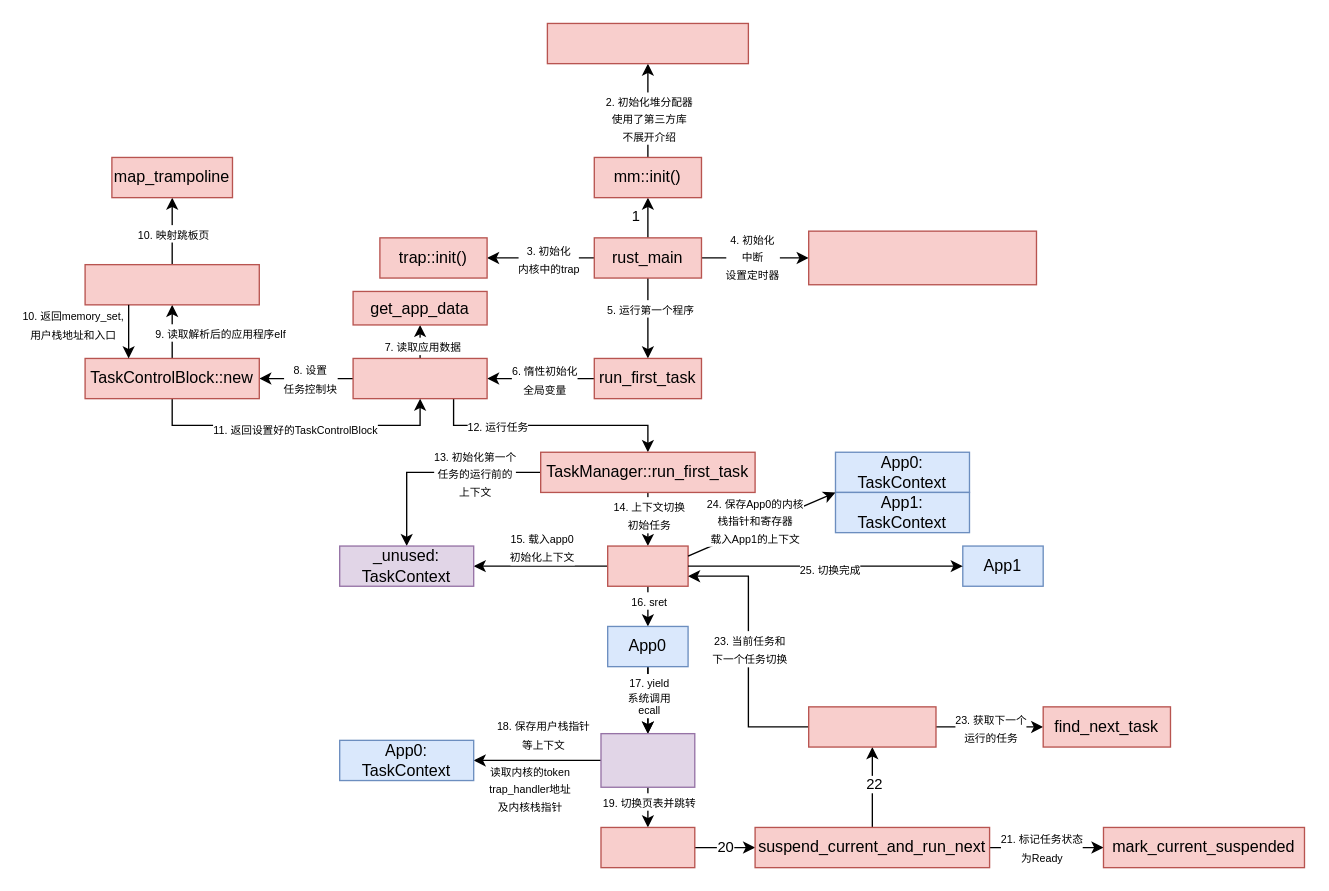
Some shapes in this 1329 by 891 pixel diagram are drawn without their labels. Each missing label, with the centre of its shape:
__switch: (x=647, y=565)
heap_allocator::init_heap(): (x=647, y=43)
MemorySet::from_elf: (x=171, y=284)
run_next_task: (x=871, y=726)
TASK_MANAGER: (x=419, y=378)
Trampoline __alltraps: (x=647, y=759)
trap::enable_timer_interrupt() && timer::set_next_trigger(): (x=921, y=257)
trap_handler: (x=647, y=847)
